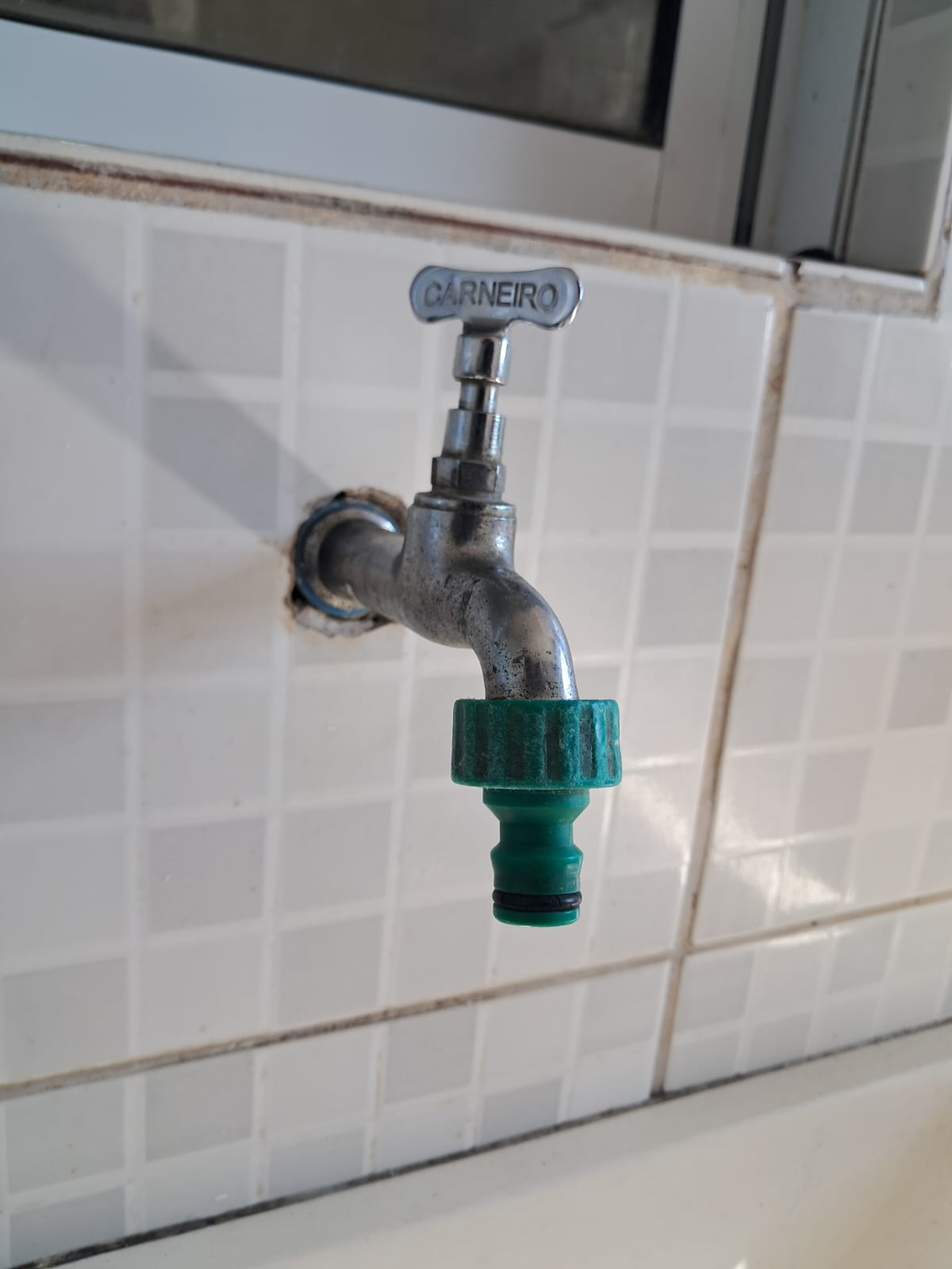torneira_fechada: (215, 206, 677, 967)
